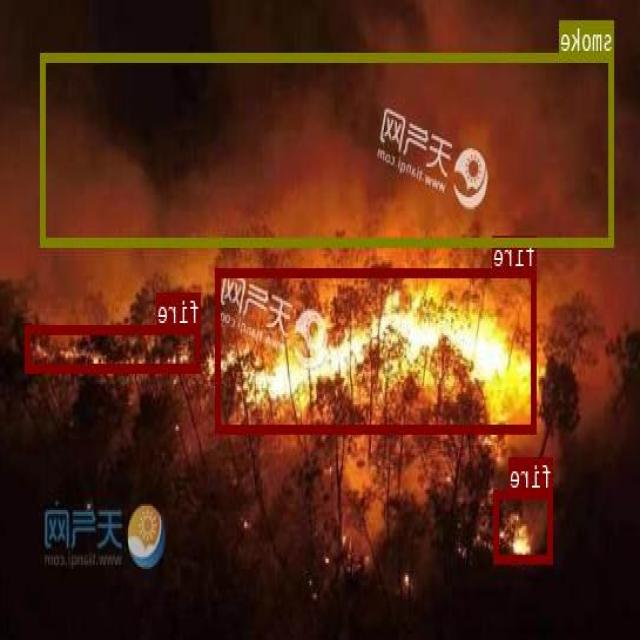fire: (216, 267, 537, 431), (27, 324, 201, 371), (496, 490, 554, 561)
smoke: (42, 52, 615, 244)
